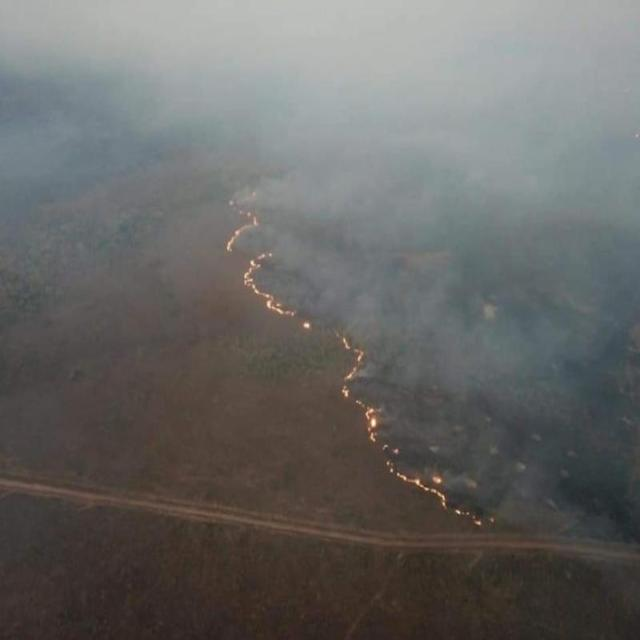Fire: (386, 454, 500, 529), (328, 324, 385, 441), (244, 254, 293, 316), (223, 199, 257, 250)
